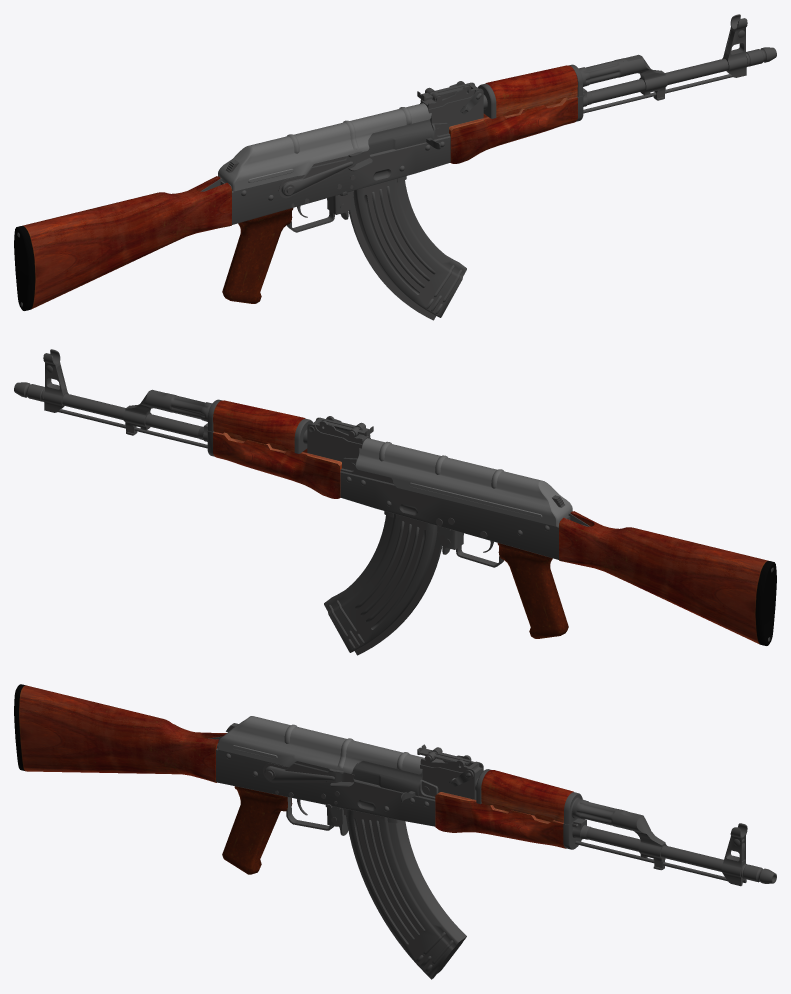
3 renders of one model, top to bottom at view 1: azimuth 30°, elevation 25°; view 2: azimuth 150°, elevation 25°; view 3: azimuth 330°, elevation 25°, orthographic.
Visible parts, largest first — view 1: AKM_03, AKM_61, AKM_21, AKM_25, AKM_05, AKM_04, AKM_12, AKM_08, AKM_16, AKM_28, AKM_20, AKM_58 (+4 smaller); view 2: AKM_03, AKM_61, AKM_21, AKM_25, AKM_05, AKM_04, AKM_12, AKM_08, AKM_16, AKM_58, AKM_60, AKM_10 (+2 smaller); view 3: AKM_03, AKM_61, AKM_21, AKM_25, AKM_05, AKM_04, AKM_12, AKM_08, AKM_16, AKM_20, AKM_28, AKM_60 (+5 smaller).
Boxes of the visible parts, bbox=[...] form: AKM_03: bbox=[14, 176, 231, 310]; AKM_61: bbox=[348, 176, 466, 320]; AKM_21: bbox=[218, 103, 431, 191]; AKM_25: bbox=[232, 136, 450, 224]; AKM_05: bbox=[449, 96, 577, 163]; AKM_04: bbox=[222, 208, 293, 303]; AKM_12: bbox=[485, 65, 577, 116]; AKM_08: bbox=[576, 58, 728, 121]; AKM_16: bbox=[420, 81, 483, 126]; AKM_28: bbox=[278, 150, 372, 198]; AKM_20: bbox=[368, 119, 440, 154]; AKM_58: bbox=[722, 14, 747, 77]; AKM_03: bbox=[559, 511, 776, 645]; AKM_61: bbox=[324, 511, 442, 655]; AKM_21: bbox=[355, 438, 572, 526]; AKM_25: bbox=[340, 471, 558, 559]; AKM_05: bbox=[213, 431, 341, 498]; AKM_04: bbox=[497, 543, 568, 638]; AKM_12: bbox=[213, 400, 305, 451]; AKM_08: bbox=[62, 393, 214, 456]; AKM_16: bbox=[307, 416, 370, 461]; AKM_58: bbox=[43, 349, 68, 412]; AKM_60: bbox=[123, 389, 169, 435]; AKM_10: bbox=[164, 394, 222, 431]; AKM_03: bbox=[14, 684, 226, 782]; AKM_61: bbox=[343, 808, 466, 979]; AKM_21: bbox=[218, 716, 424, 774]; AKM_25: bbox=[216, 748, 435, 826]; AKM_05: bbox=[435, 792, 566, 848]; AKM_04: bbox=[222, 786, 292, 874]; AKM_12: bbox=[481, 770, 573, 822]; AKM_08: bbox=[563, 818, 723, 871]; AKM_16: bbox=[420, 755, 483, 799]; AKM_20: bbox=[351, 761, 422, 802]; AKM_28: bbox=[263, 761, 354, 786]; AKM_60: bbox=[618, 810, 666, 870].
Size of the model in its own units: 35.02 by 10.14 by 2.34.
4 materials, 1 textured.
